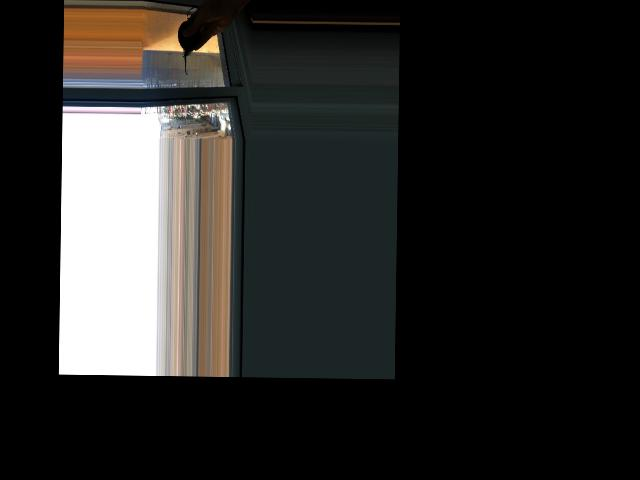beet: (177, 7, 207, 75)
